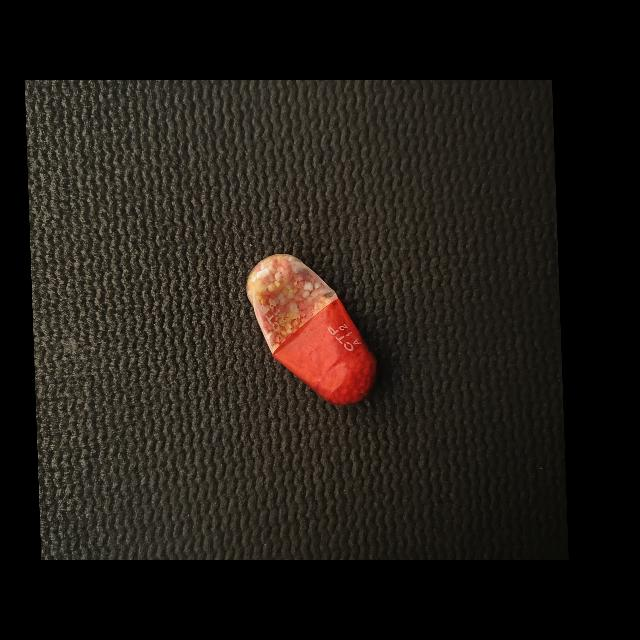Defective Capsule: (246, 254, 376, 405)
